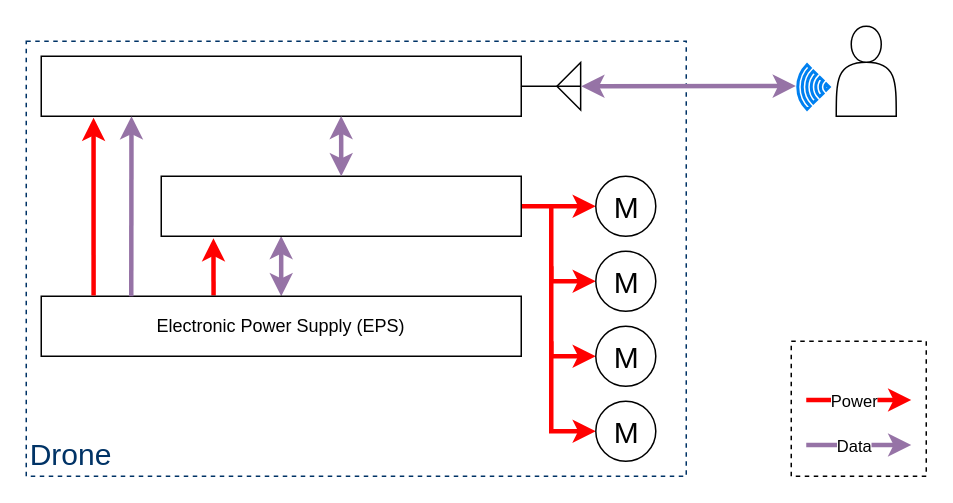
Image size: 953x503. Some labels were removed from this diagram. Each missing label, with the centre of its shape:
Communication System (CS): the point at 280,85
Flight Control Unit (FCU): the point at 340,205
Legend: the point at 858,408
